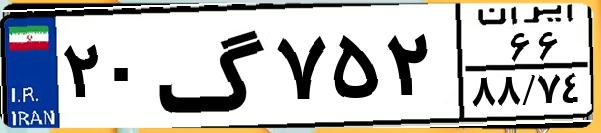0: (110, 28, 156, 98)
2: (385, 28, 445, 110), (57, 26, 110, 100)
4: (560, 70, 590, 125)
5: (330, 28, 385, 110)
6: (537, 27, 568, 80), (508, 27, 537, 80)
7: (270, 28, 330, 110), (535, 70, 560, 125)
8: (470, 70, 495, 125), (495, 70, 520, 125)
گ: (156, 12, 270, 120)
